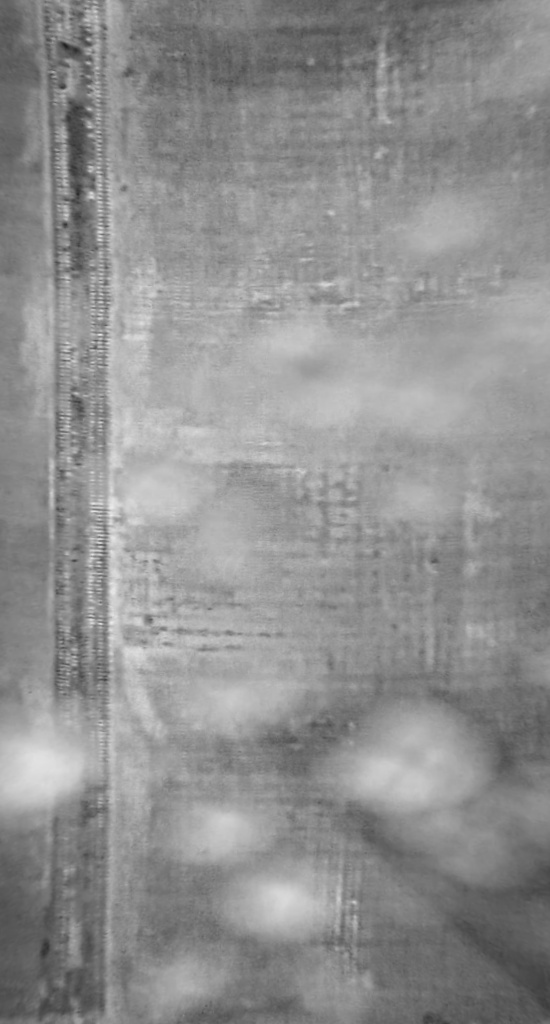splice: (21, 2, 118, 1024)
